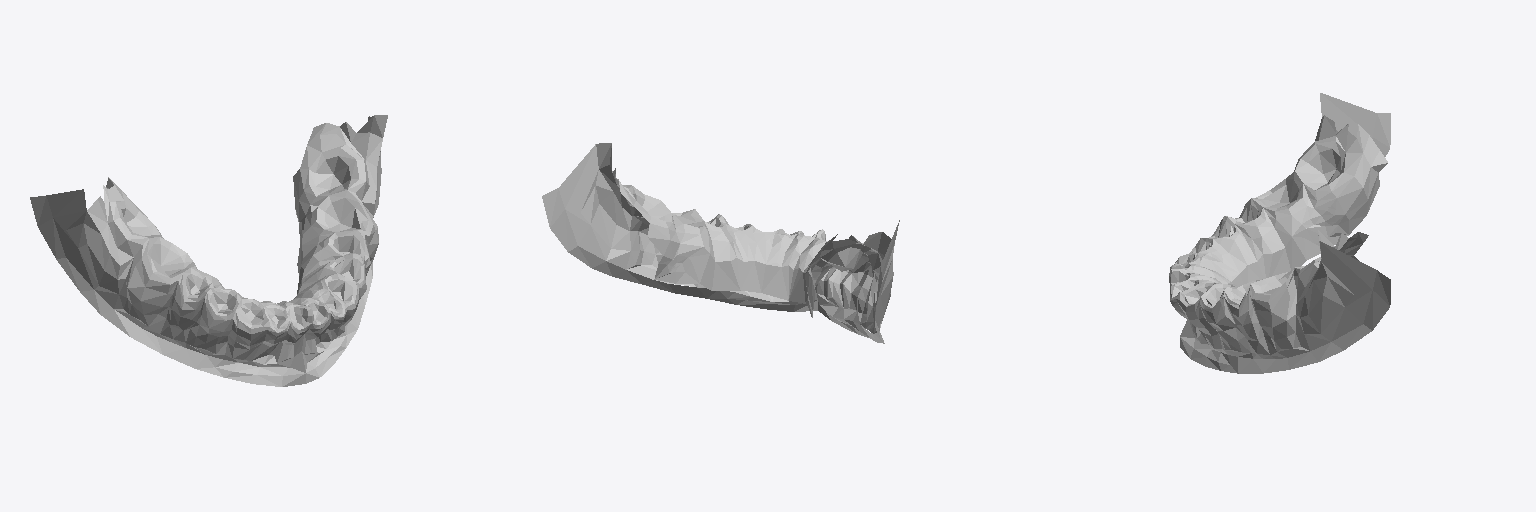
File: lowermouth2.obj
3 views of the same model, side by side, from view 1: azimuth 30°, elevation 25°; view 2: azimuth 150°, elevation 25°; view 3: azimuth 270°, elevation 25° (orthographic).
Visible parts, largest first — view 1: mouth_remake.001; view 2: mouth_remake.001; view 3: mouth_remake.001.
Part boxes in pixels (bbox=[...]): mouth_remake.001: bbox=[30, 115, 387, 386]; mouth_remake.001: bbox=[542, 143, 899, 343]; mouth_remake.001: bbox=[1169, 93, 1390, 373].
Bounding box in the file's own units: 6.64 × 3.49 × 3.76.